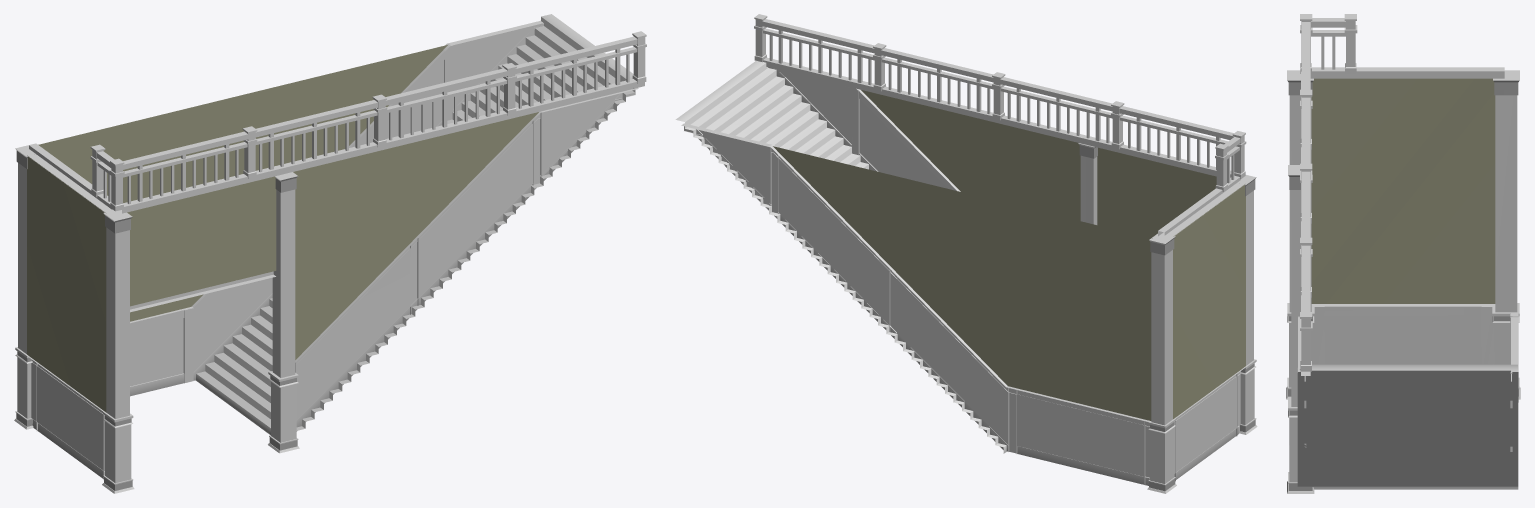
The model's file is SM_H_Building_Tide_WardenLounge_01E_ATLAS.fbx.
3 views of the same model, side by side, from view 1: azimuth 30°, elevation 25°; view 2: azimuth 150°, elevation 25°; view 3: azimuth 270°, elevation 25° (orthographic). The views are drawn at different scales.
Visible parts, largest first — view 1: SM_H_Building_Tide_WardenLounge_01E_ATLAS; view 2: SM_H_Building_Tide_WardenLounge_01E_ATLAS; view 3: SM_H_Building_Tide_WardenLounge_01E_ATLAS.
Part boxes in pixels (left/top/right/bottom): SM_H_Building_Tide_WardenLounge_01E_ATLAS: left=14, top=14, right=646, bottom=493; SM_H_Building_Tide_WardenLounge_01E_ATLAS: left=675, top=14, right=1257, bottom=493; SM_H_Building_Tide_WardenLounge_01E_ATLAS: left=1286, top=14, right=1520, bottom=493.
Size of the model in its own units: 1265 by 408 by 727.
